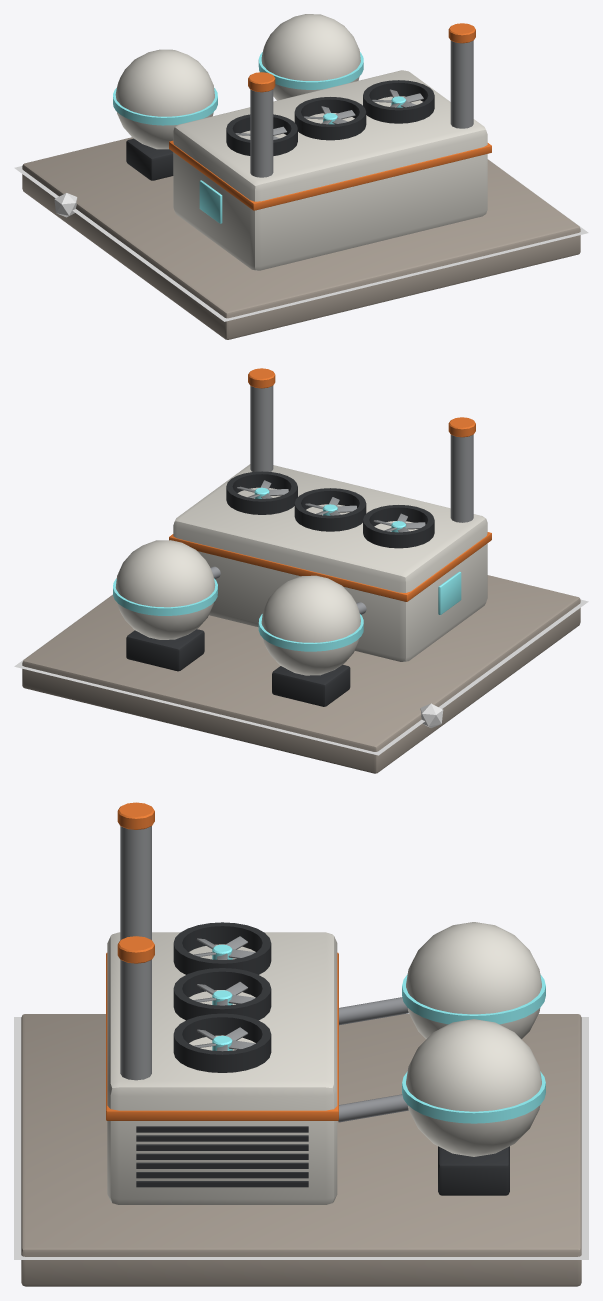
File: oxygen_generator_2x2.gltf
3 views of the same model, one above another, from view 1: azimuth 30°, elevation 25°; view 2: azimuth 150°, elevation 25°; view 3: azimuth 270°, elevation 25° (orthographic). The views are drawn at different scales.
Parts seen in each view (by area): view 1: OxygenGenerator, %P%Footprint, %P%AnchorOut; view 2: OxygenGenerator, %P%Footprint; view 3: OxygenGenerator, %P%Footprint.
Boxes of the visible parts, box(x1,y1,x2,y2) form: OxygenGenerator: box(22, 14, 580, 339); %P%Footprint: box(14, 159, 588, 321); %P%AnchorOut: box(54, 193, 77, 217); OxygenGenerator: box(22, 368, 580, 773); %P%Footprint: box(14, 594, 588, 755); OxygenGenerator: box(21, 802, 581, 1286); %P%Footprint: box(14, 1017, 588, 1259).
Bounding box in the file's own units: 4.12 × 2.25 × 4.
